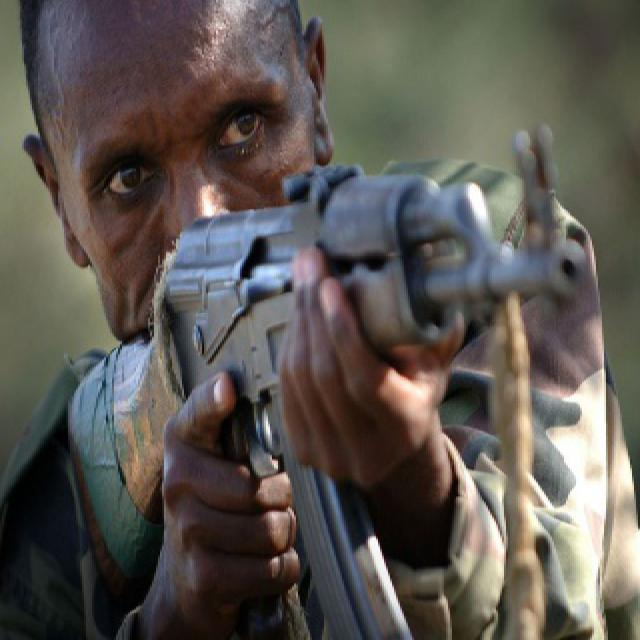long weapon: (136, 124, 596, 638)
